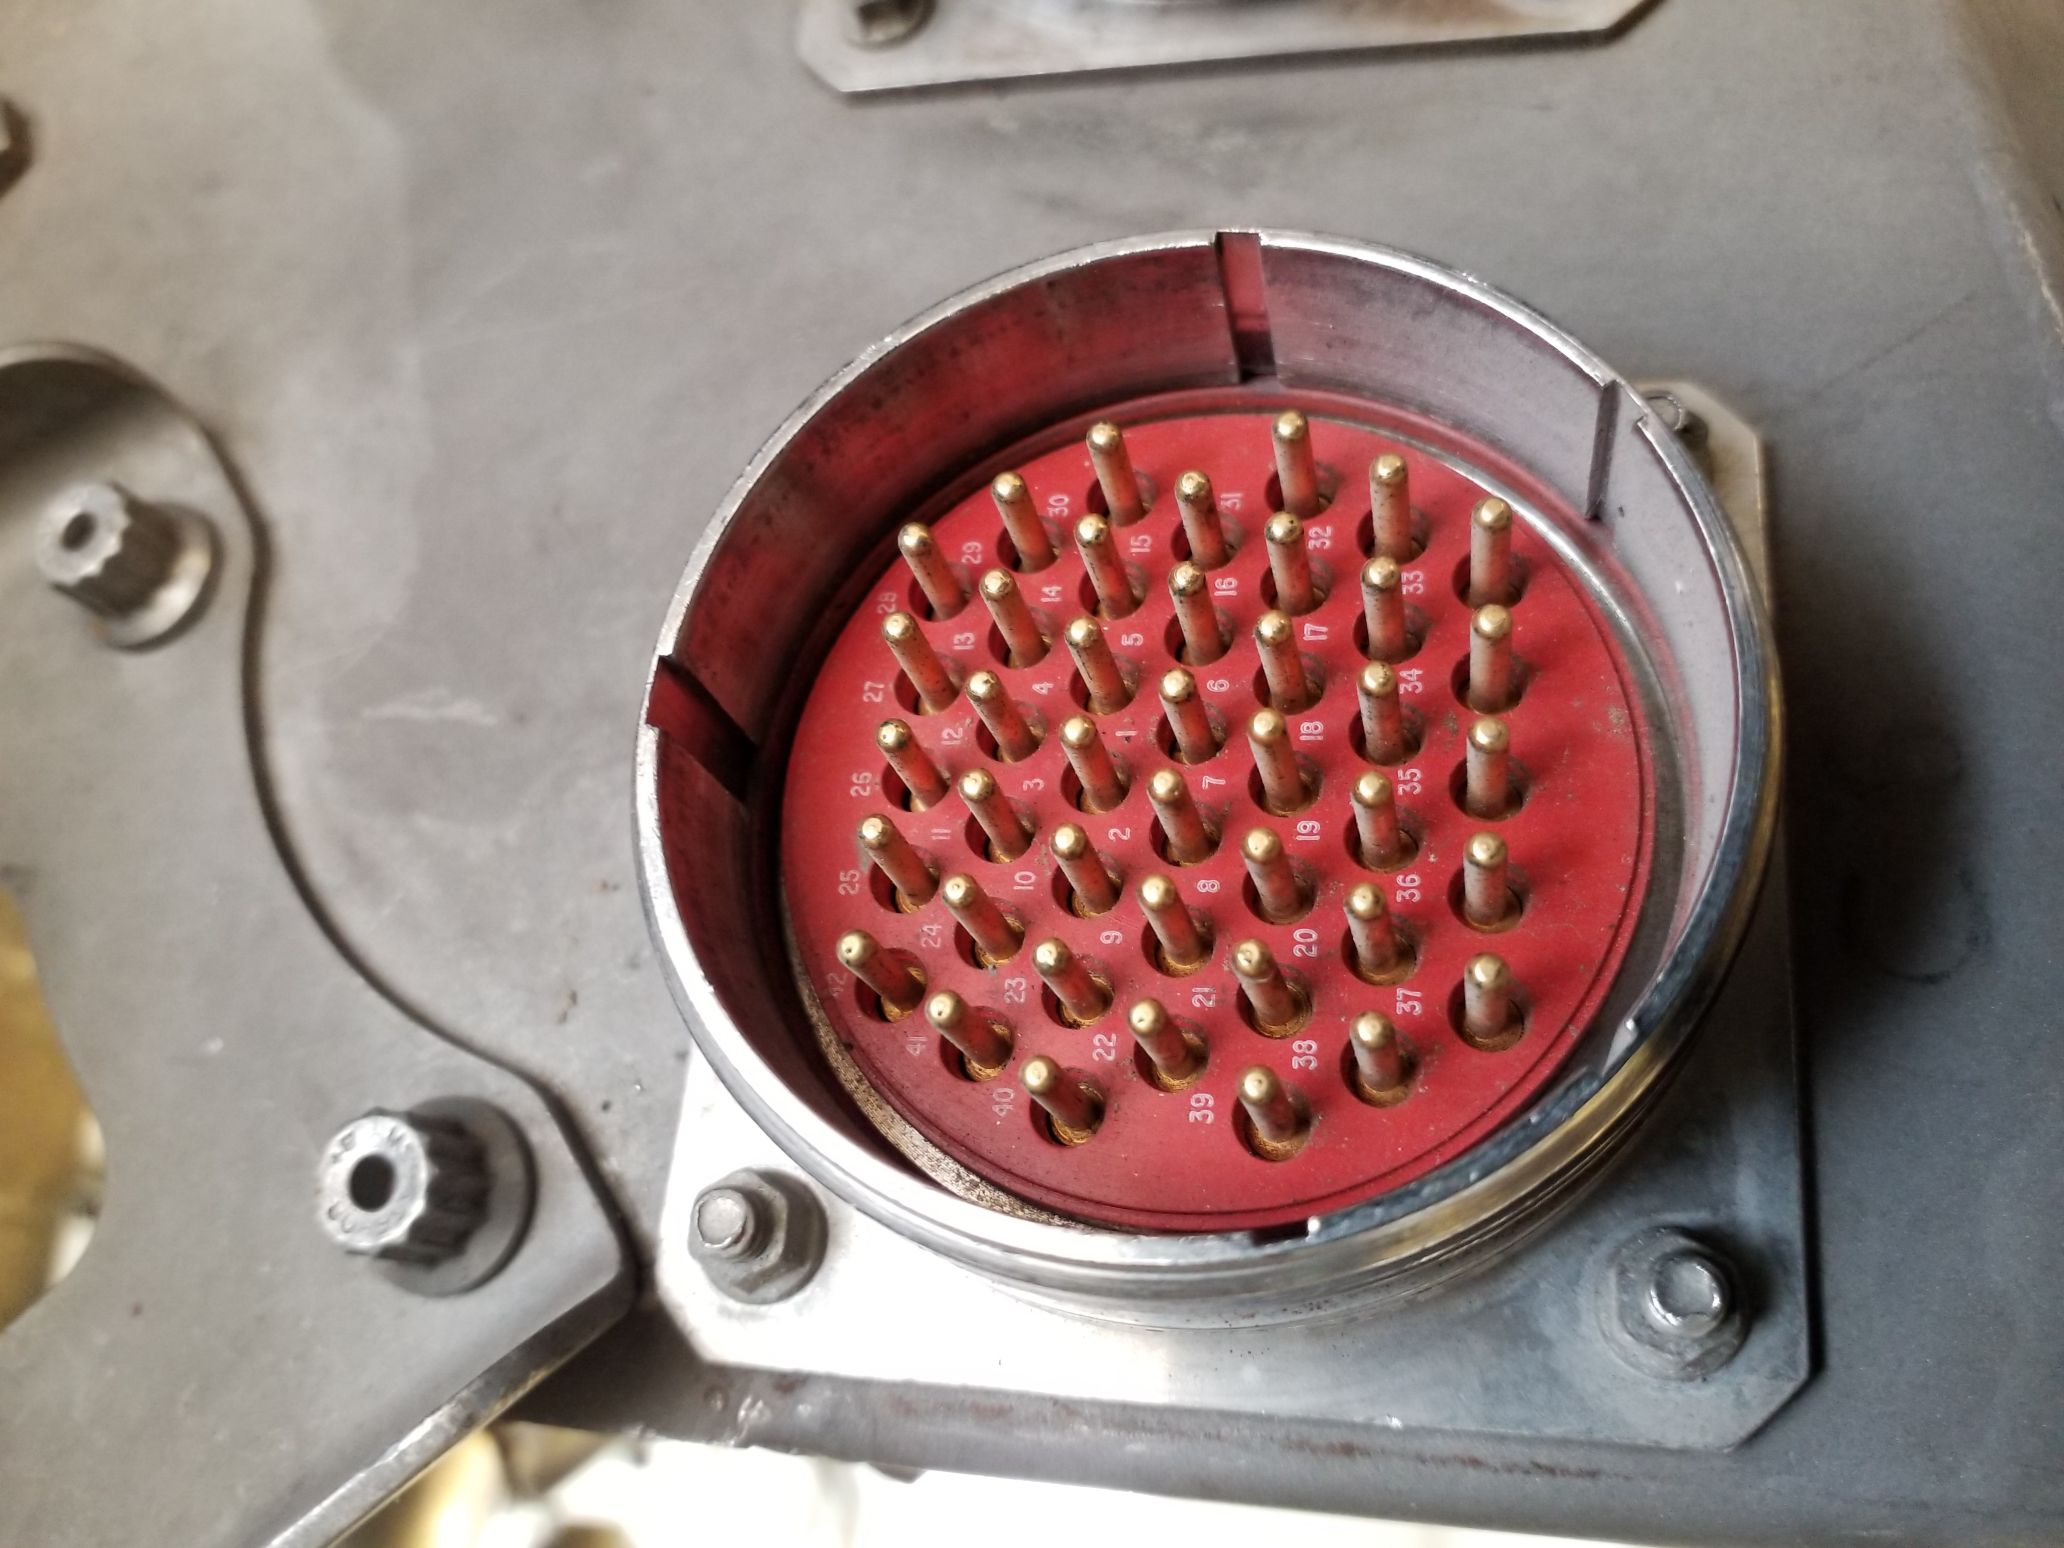outlet: (627, 228, 1784, 1288)
